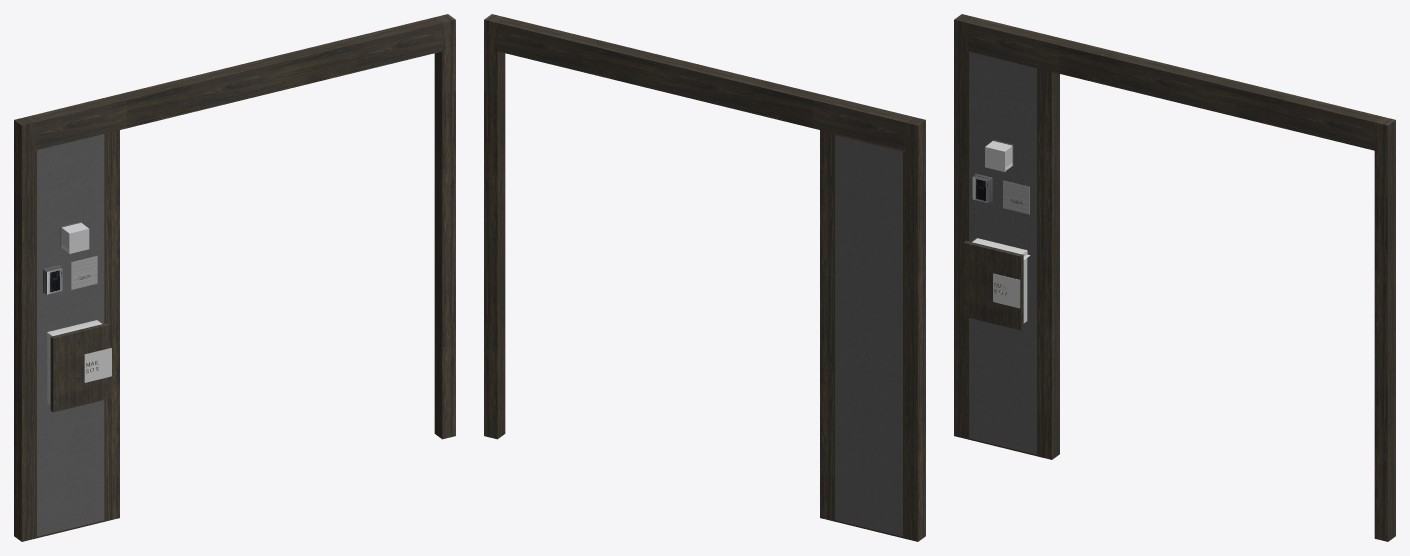
File: esm5_blackebony.fbx
The picture shows the model from 3 angles, left to right: view 1: azimuth 30°, elevation 25°; view 2: azimuth 150°, elevation 25°; view 3: azimuth 330°, elevation 25°; orthographic projection.
Visible parts, largest first — view 1: esm5-blackebony; view 2: esm5-blackebony; view 3: esm5-blackebony.
Part boxes in pixels (box(x1,y1,x2,y2)): esm5-blackebony: box(14, 14, 455, 541); esm5-blackebony: box(484, 14, 925, 541); esm5-blackebony: box(954, 14, 1395, 541).
Bounding box in the file's own units: 240 × 220 × 18.87.
17 materials, 8 textured.
